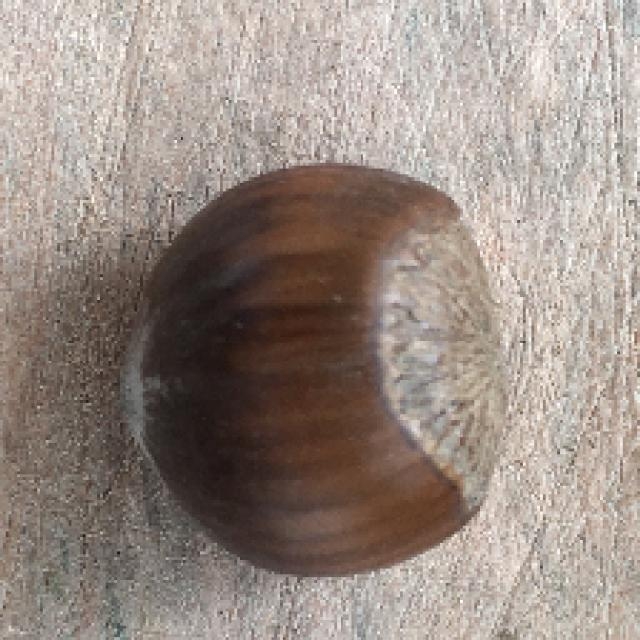damagedHazelnut: (130, 161, 519, 578)
